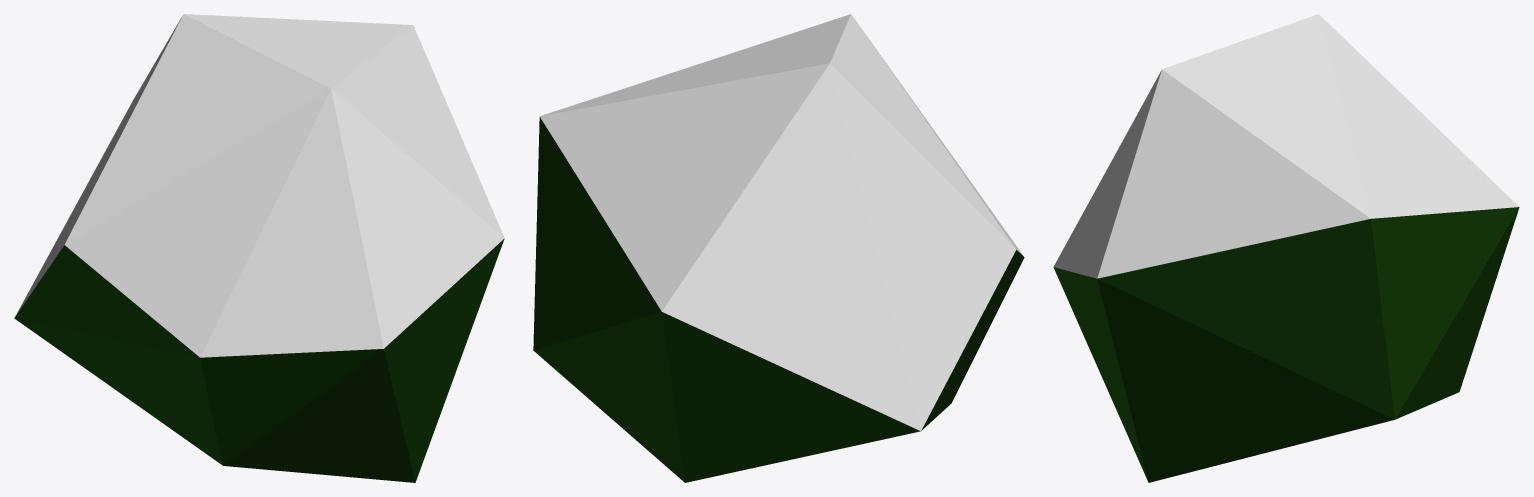
File: Bush_3_Snow.fbx
The picture shows the model from 3 angles, left to right: view 1: azimuth 30°, elevation 25°; view 2: azimuth 150°, elevation 25°; view 3: azimuth 270°, elevation 25°; orthographic projection. The views are drawn at different scales.
Visible parts, largest first — view 1: Bush_3_Snow; view 2: Bush_3_Snow; view 3: Bush_3_Snow.
Part boxes in pixels (left/top/right/bottom): Bush_3_Snow: left=14, top=14, right=504, bottom=482; Bush_3_Snow: left=533, top=14, right=1024, bottom=482; Bush_3_Snow: left=1053, top=14, right=1519, bottom=482.
Bounding box in the file's own units: 95.27 × 97 × 101.
